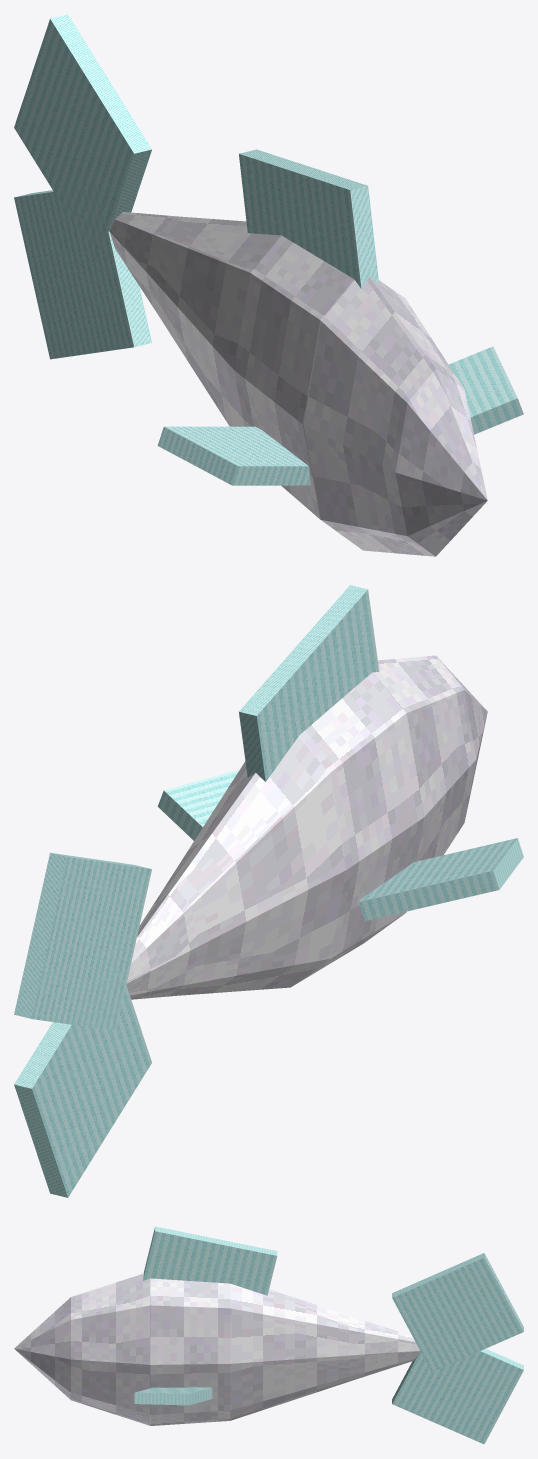
The model's file is peixe_quartzo.glb.
The picture shows the model from 3 angles, top to bottom: view 1: azimuth 30°, elevation 25°; view 2: azimuth 150°, elevation 25°; view 3: azimuth 270°, elevation 25°; orthographic projection. The views are drawn at different scales.
Parts seen in each view (by area): view 1: peixe_quartzo; view 2: peixe_quartzo; view 3: peixe_quartzo.
Boxes of the visible parts, box(x1,y1,x2,y2) form: peixe_quartzo: box(14, 14, 523, 556); peixe_quartzo: box(14, 585, 523, 1197); peixe_quartzo: box(14, 1226, 523, 1444).
Size of the model in its own units: 0.3612 by 0.3928 by 0.851.
1 material, 1 textured.
